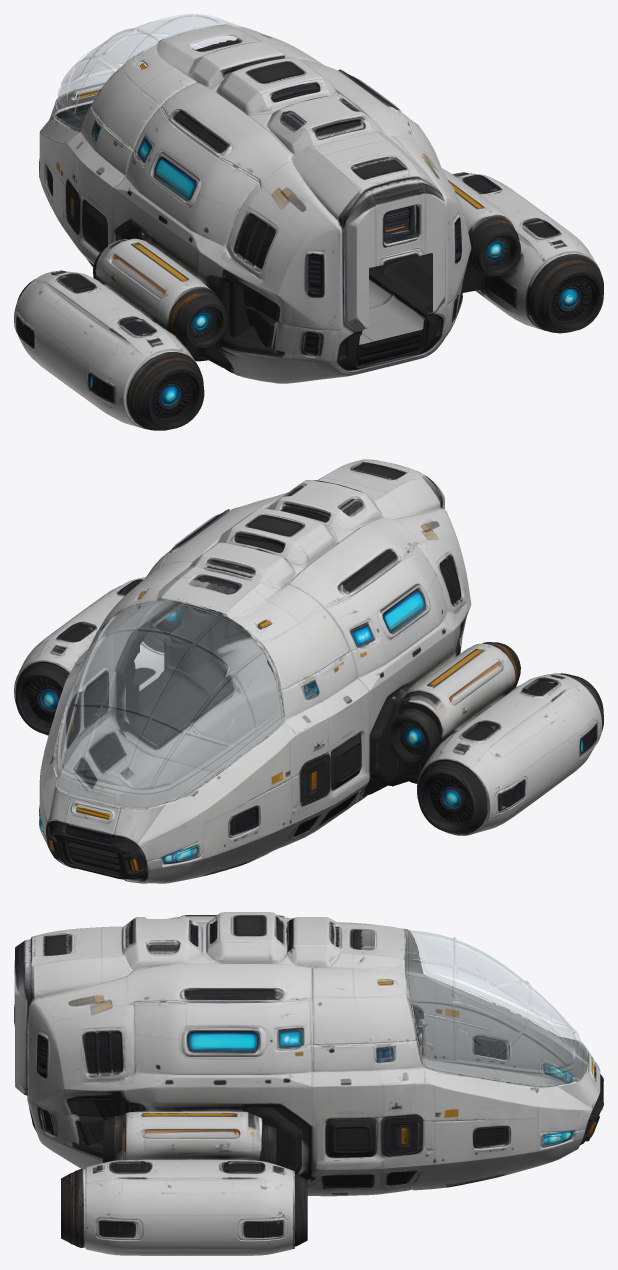
File: 前挡玻璃-r2接缝对齐-外观审阅-r7.glb
The picture shows the model from 3 angles, top to bottom: view 1: azimuth 30°, elevation 25°; view 2: azimuth 150°, elevation 25°; view 3: azimuth 270°, elevation 25°; orthographic projection. The views are drawn at different scales.
Parts seen in each view (by area): view 1: Exterior_Hull_90_0, Canopy_Glass_91_0; view 2: Exterior_Hull_90_0, Canopy_Glass_91_0; view 3: Exterior_Hull_90_0, Canopy_Glass_91_0.
Part boxes in pixels (box(x1,y1,x2,y2)): Exterior_Hull_90_0: box(14, 24, 603, 430); Canopy_Glass_91_0: box(55, 14, 253, 118); Exterior_Hull_90_0: box(14, 459, 603, 883); Canopy_Glass_91_0: box(51, 580, 266, 822); Exterior_Hull_90_0: box(14, 912, 603, 1255); Canopy_Glass_91_0: box(361, 929, 596, 1091).
Bounding box in the file's own units: 14.46 × 6.95 × 16.
Materials: 2 (1 with a texture image).
